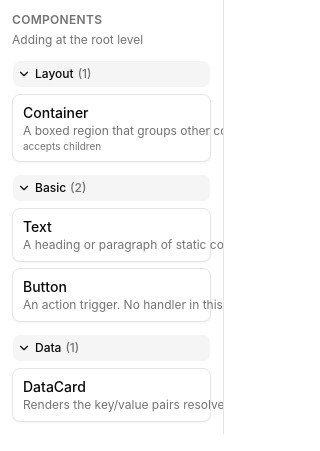
Test: collapsing categories › collapses only the clicked category
The width and height of the screenshot is (320, 451).
Click the button with test id "palette-category": (112, 188) x1=12 y1=174 x2=211 y2=202
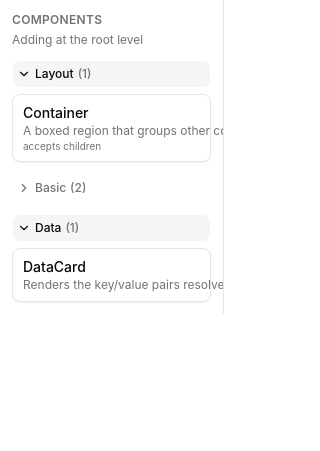
Expected: the number of elements with test id "palette-group-items" is 2, x1=12 y1=94 x2=211 y2=162; x1=12 y1=248 x2=211 y2=302
Expected: the button "Text A heading or paragraph of static copy." is gone
